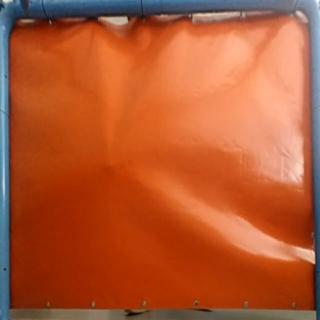Hit-hRxx: (102, 160, 120, 172)
